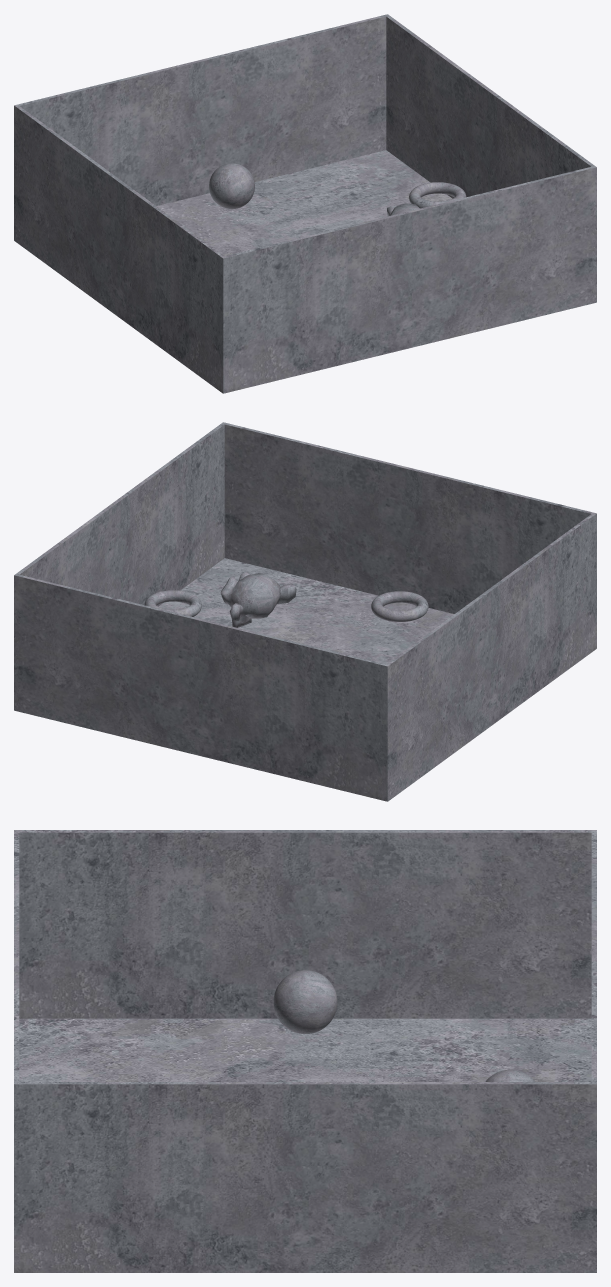
Rendered from ent1.fbx.
The picture shows the model from 3 angles, top to bottom: view 1: azimuth 30°, elevation 25°; view 2: azimuth 150°, elevation 25°; view 3: azimuth 270°, elevation 25°; orthographic projection. The views are drawn at different scales.
Parts seen in each view (by area): view 1: Cube; view 2: Cube; view 3: Cube.
Part boxes in pixels (<box>): Cube: <box>14,14,596,393</box>; Cube: <box>14,422,596,801</box>; Cube: <box>14,830,596,1272</box>.
Bounding box in the file's own units: 1881 × 651 × 1823.
Materials: 1 (1 with a texture image).
